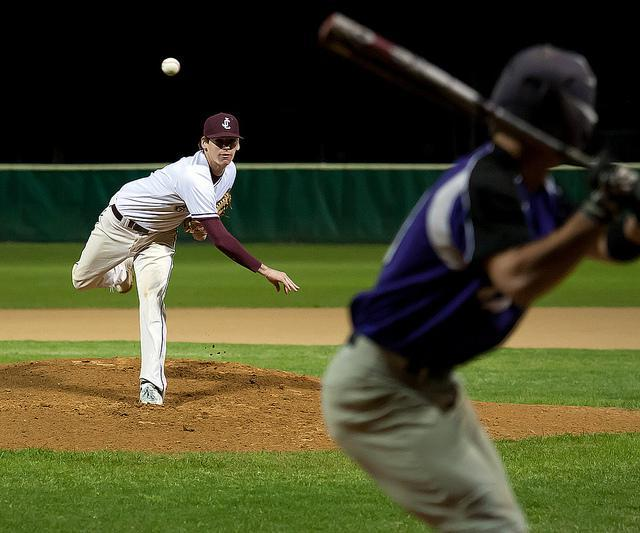baseball bat: (320, 10, 604, 174)
sports ball: (159, 56, 181, 78)
